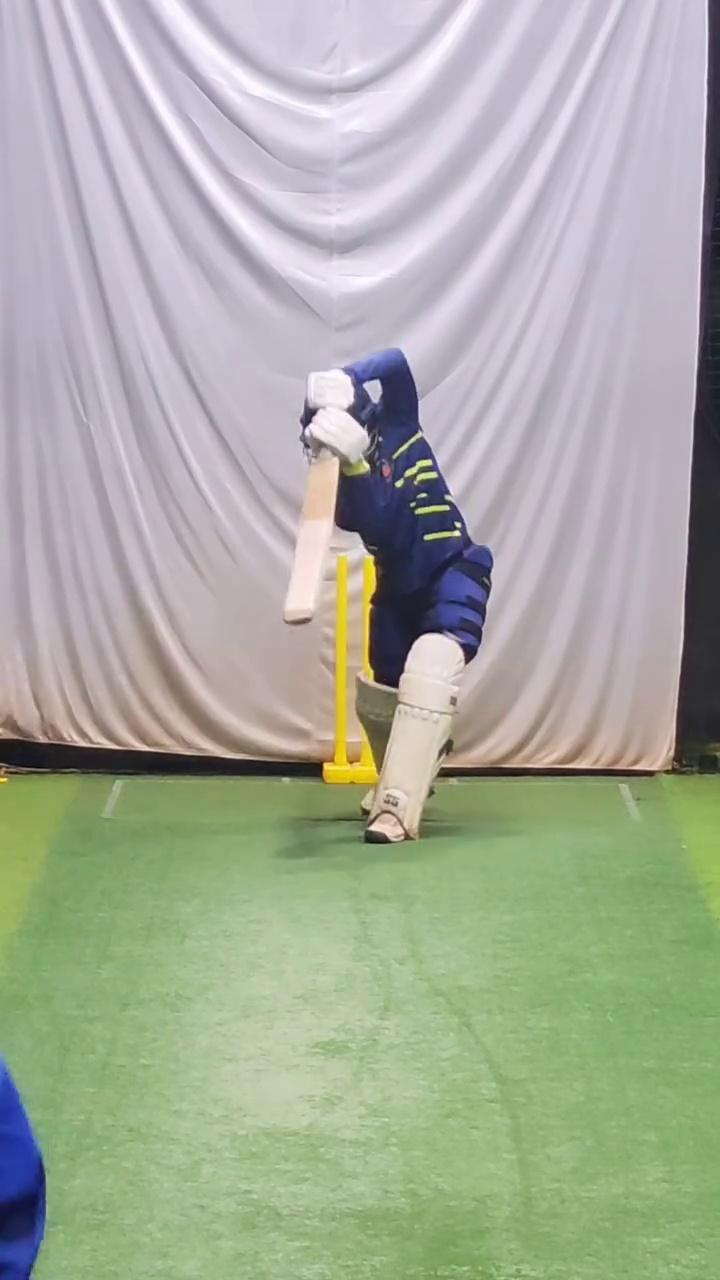bat: (275, 450, 346, 632)
